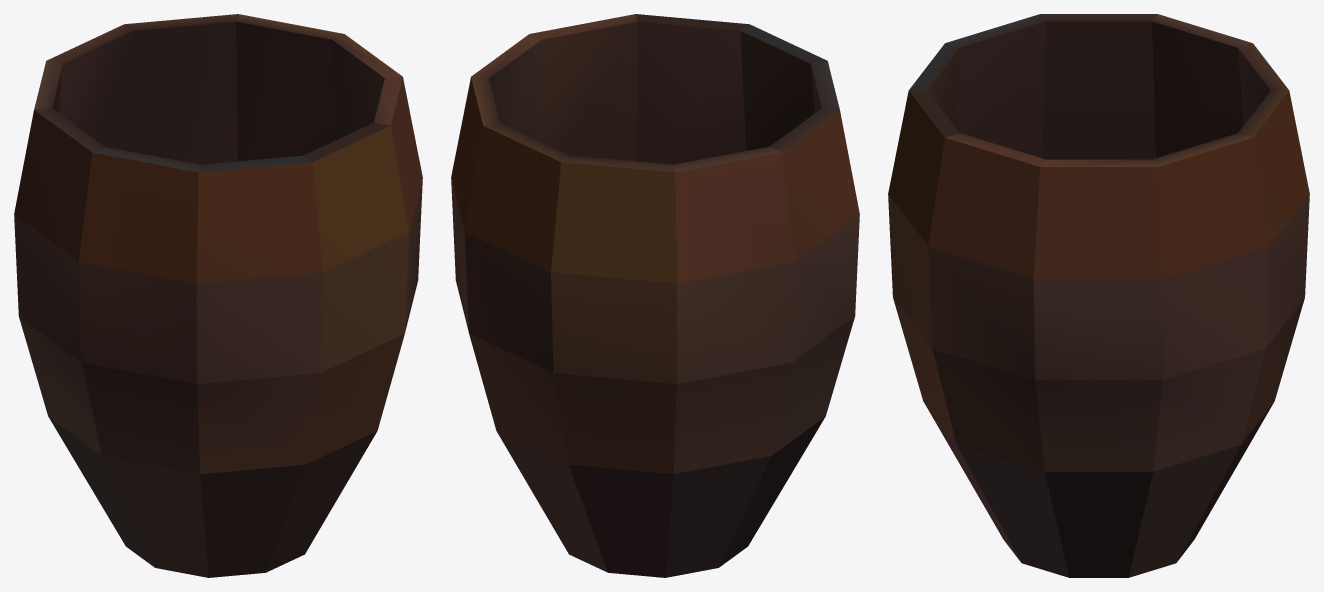
Rendered from Prop_CupB.fbx.
3 renders of one model, left to right at view 1: azimuth 30°, elevation 25°; view 2: azimuth 150°, elevation 25°; view 3: azimuth 270°, elevation 25°, orthographic.
Visible parts, largest first — view 1: Prop_CupB; view 2: Prop_CupB; view 3: Prop_CupB.
Boxes of the visible parts, x1,y1,x2,y2 form: Prop_CupB: (14,14,422,577); Prop_CupB: (451,14,859,577); Prop_CupB: (888,14,1309,577).
Bounding box in the file's own units: 14.06 × 17.36 × 14.78.
